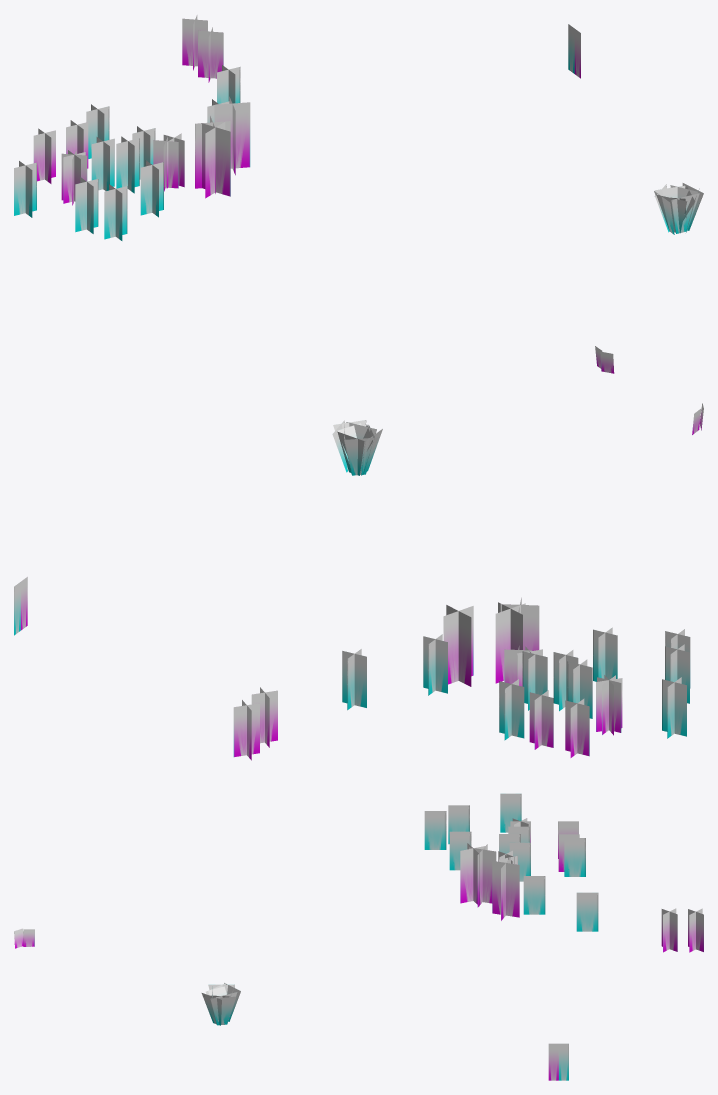
The model's file is lighht.FBX.
The picture shows the model from 3 angles, top to bottom: view 1: azimuth 30°, elevation 25°; view 2: azimuth 150°, elevation 25°; view 3: azimuth 270°, elevation 25°; orthographic projection. The views are drawn at different scales.
Visible parts, largest first — view 1: liume_A_B_010, liume_A_A_011, liume_A_B_012, liume_A_A_016, liume_A_A_017, liume_A_A_018, liume_A_B_013, liume_A_A_014, liume_A_A_019, liume_A_A_013, liume_A_B_004, liume_A_B_008 (+8 smaller); view 2: liume_A_B_012, liume_A_A_011, liume_A_B_011, liume_A_A_012, liume_A_B_014, liume_A_A_019, liume_A_A_020, liume_A_A_021, liume_A_B_005, liume_A_B_004, liume_A_A_016, liume_A_A_015 (+7 smaller); view 3: liume_A_B_012, liume_A_A_011, liume_A_B_010, liume_A_B_011, liume_A_A_021, liume_A_A_017, liume_A_A_020, liume_A_A_012, liume_A_A_019, liume_A_B_013, liume_A_A_016, liume_A_B_014 (+2 smaller).
Part boxes in pixels (<box>): liume_A_B_010: <box>201,122,230,198</box>; liume_A_A_011: <box>654,183,703,234</box>; liume_A_B_012: <box>214,96,250,175</box>; liume_A_A_016: <box>140,160,163,217</box>; liume_A_A_017: <box>104,184,127,240</box>; liume_A_A_018: <box>75,177,98,233</box>; liume_A_B_013: <box>198,27,223,82</box>; liume_A_A_014: <box>116,136,139,193</box>; liume_A_A_019: <box>14,161,36,217</box>; liume_A_A_013: <box>91,137,114,190</box>; liume_A_B_004: <box>33,128,55,183</box>; liume_A_B_008: <box>153,137,178,191</box>; liume_A_B_012: <box>443,605,473,686</box>; liume_A_A_011: <box>332,420,382,475</box>; liume_A_B_011: <box>495,602,525,683</box>; liume_A_A_012: <box>499,679,524,740</box>; liume_A_B_014: <box>233,700,259,760</box>; liume_A_A_019: <box>662,677,686,738</box>; liume_A_A_020: <box>423,634,447,695</box>; liume_A_A_021: <box>342,649,366,710</box>; liume_A_B_005: <box>529,690,553,749</box>; liume_A_B_004: <box>565,698,589,757</box>; liume_A_A_016: <box>593,627,617,681</box>; liume_A_A_015: <box>522,649,547,710</box>; liume_A_B_012: <box>492,857,519,920</box>; liume_A_A_011: <box>201,983,240,1025</box>; liume_A_B_010: <box>460,843,486,905</box>; liume_A_B_011: <box>469,844,496,907</box>; liume_A_A_021: <box>576,892,598,931</box>; liume_A_A_017: <box>424,811,446,849</box>; liume_A_A_020: <box>523,876,545,914</box>; liume_A_A_012: <box>564,838,585,876</box>; liume_A_A_019: <box>500,793,521,832</box>; liume_A_B_013: <box>661,908,677,952</box>; liume_A_A_016: <box>449,831,471,870</box>; liume_A_B_014: <box>688,908,703,952</box>.
Size of the model in its own units: 9471 by 1319 by 11835.
